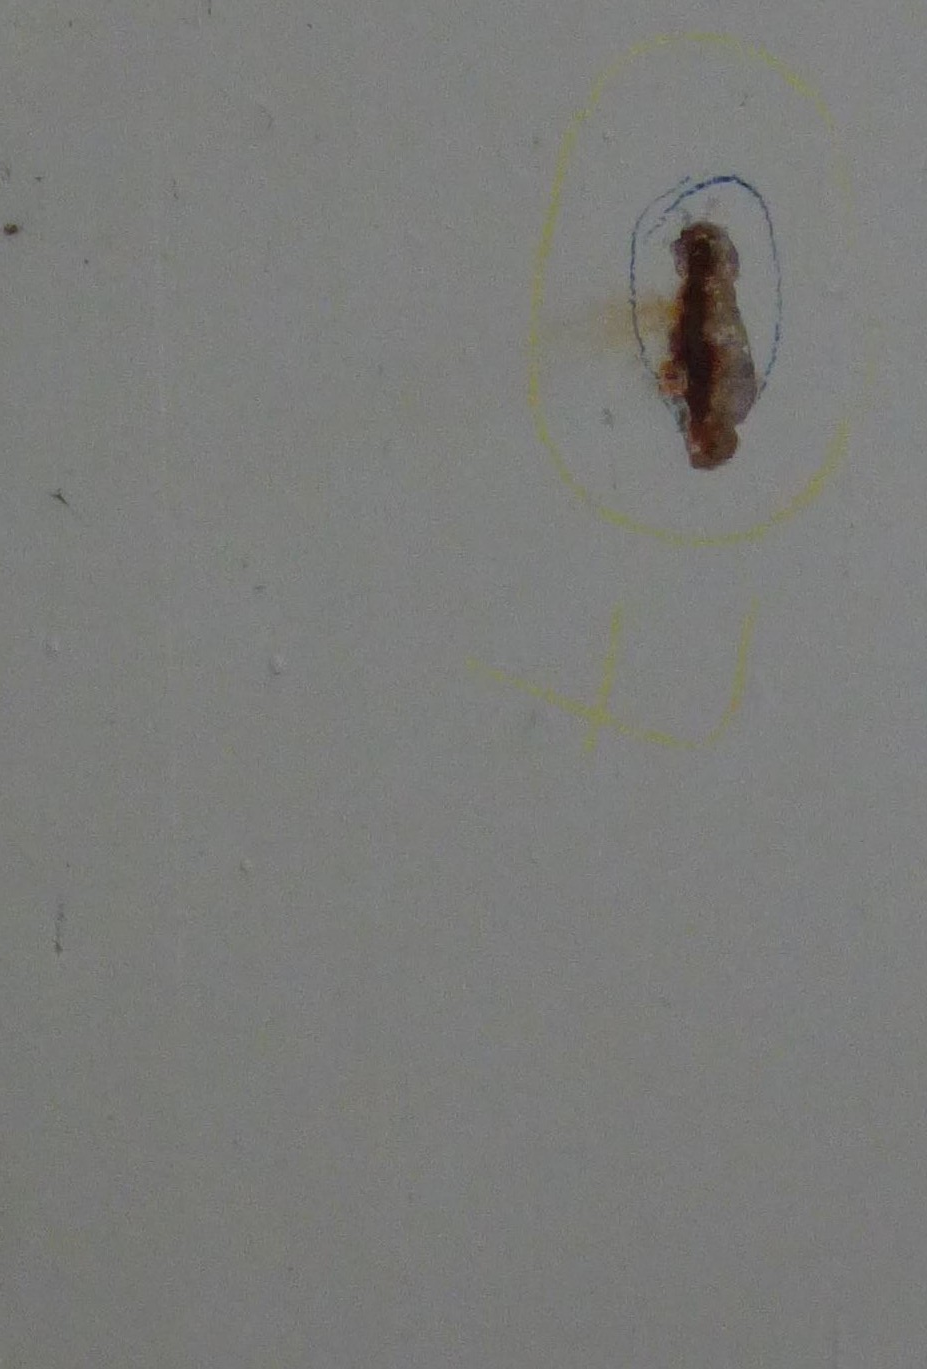Exposed reinforcement: (684, 240, 711, 423)
Spalling: (656, 220, 759, 472)
